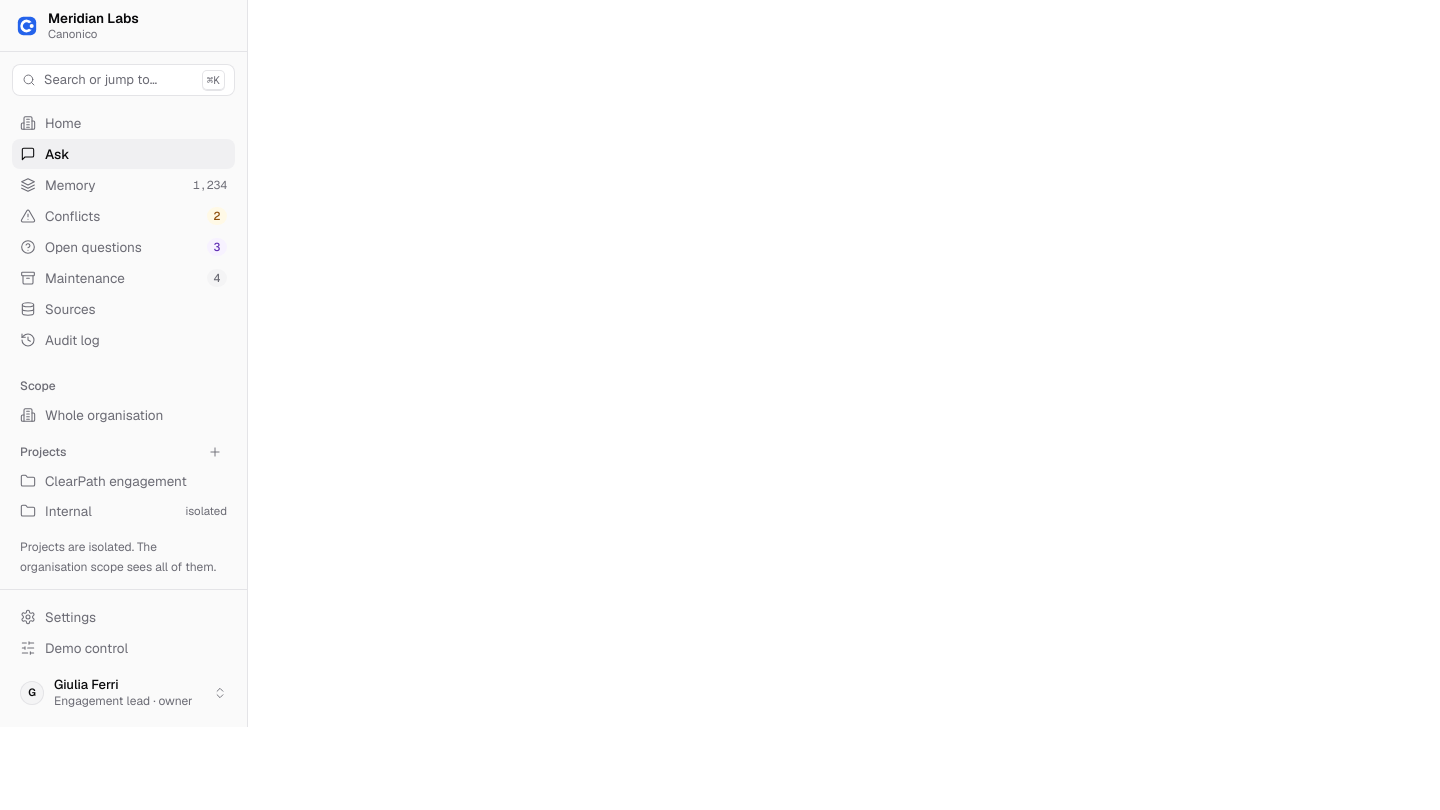
it: Sidebar › new project › creates the project, switches to it, opens its overview and confirms
This screenshot has width=1440, height=810.
Click the button named "New project": click(215, 452) [203, 440, 227, 464]
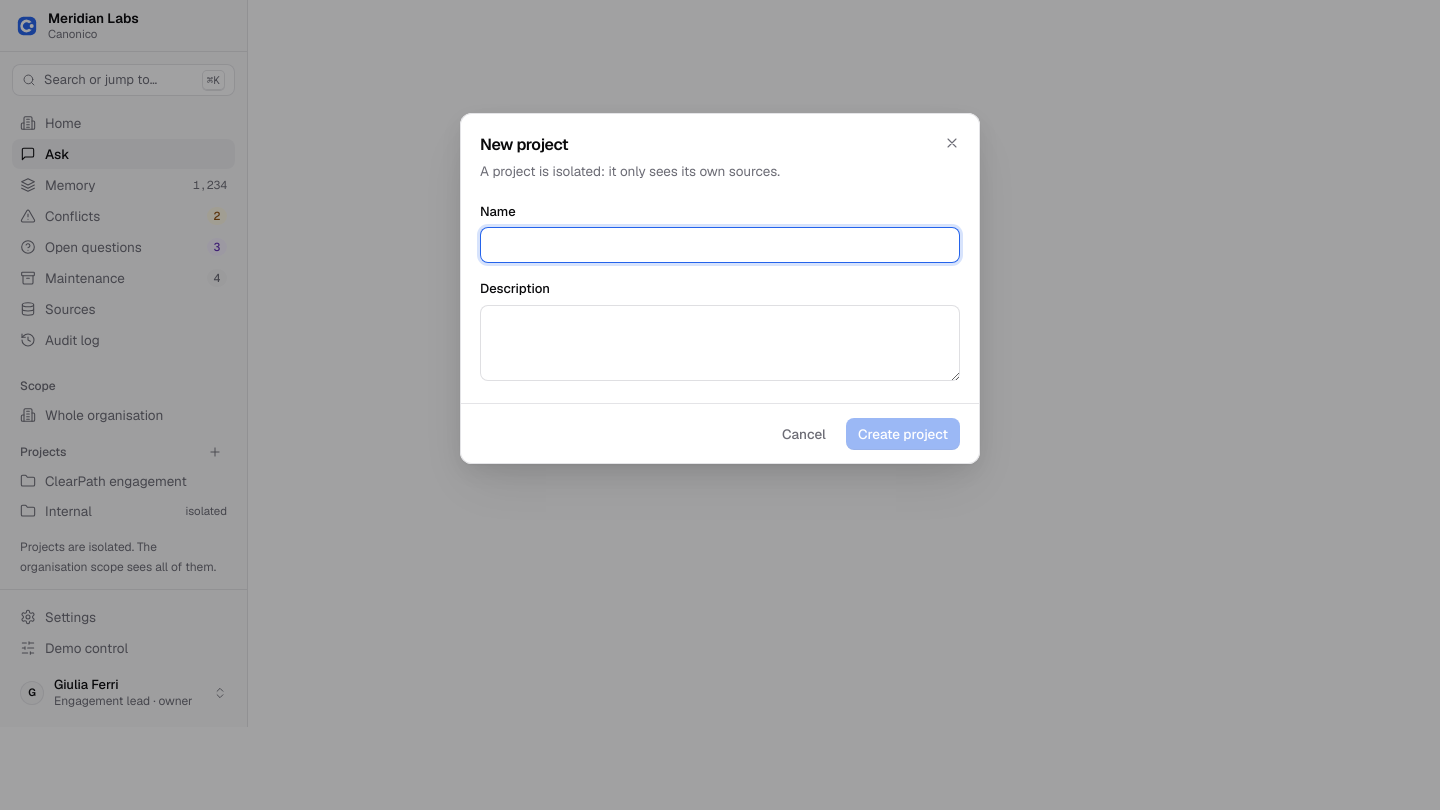
In the field labelled "Name": (720, 245) [480, 227, 960, 263], type "  Northwind audit "
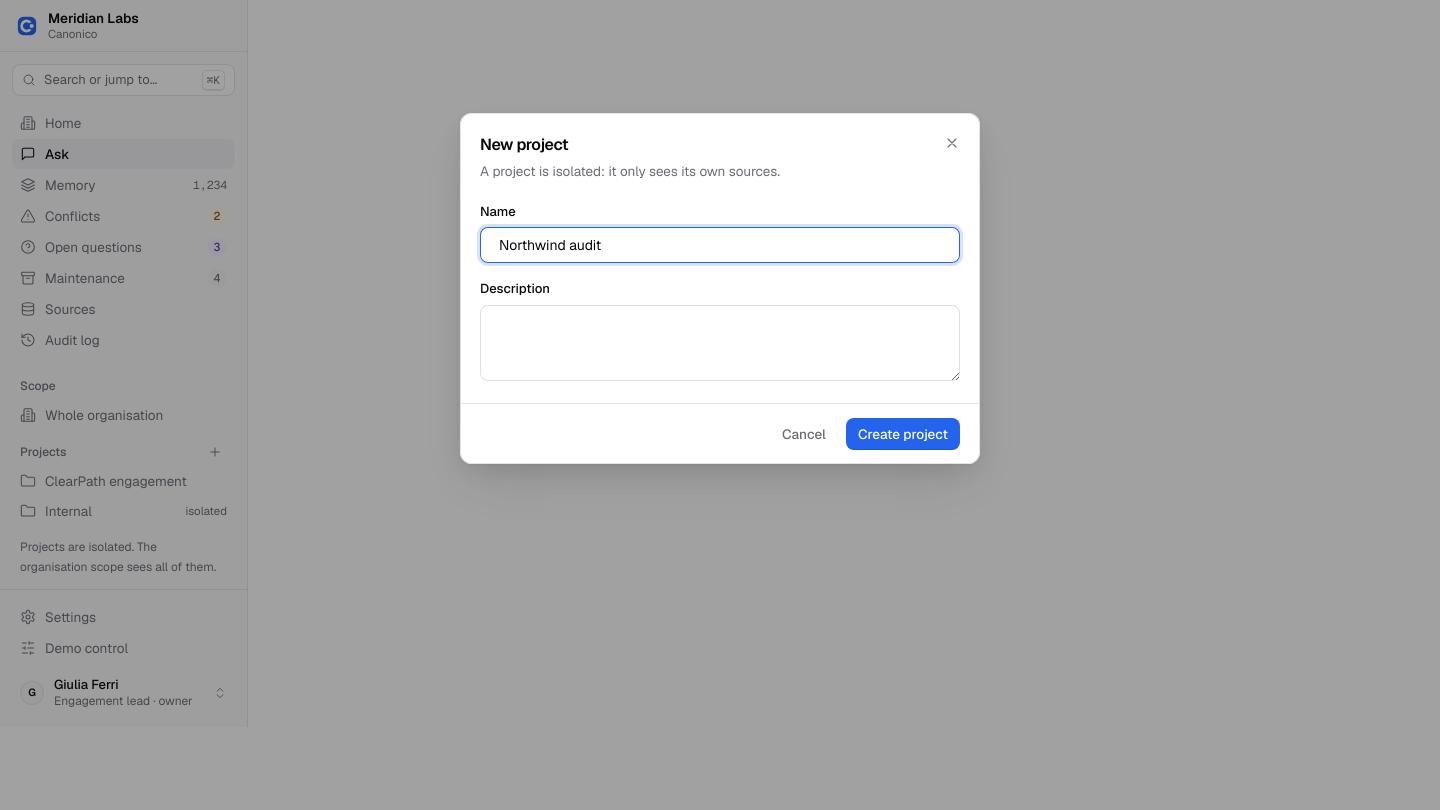
In the text box labelled "Description": (720, 343) [480, 305, 960, 381], type " Year-end audit "
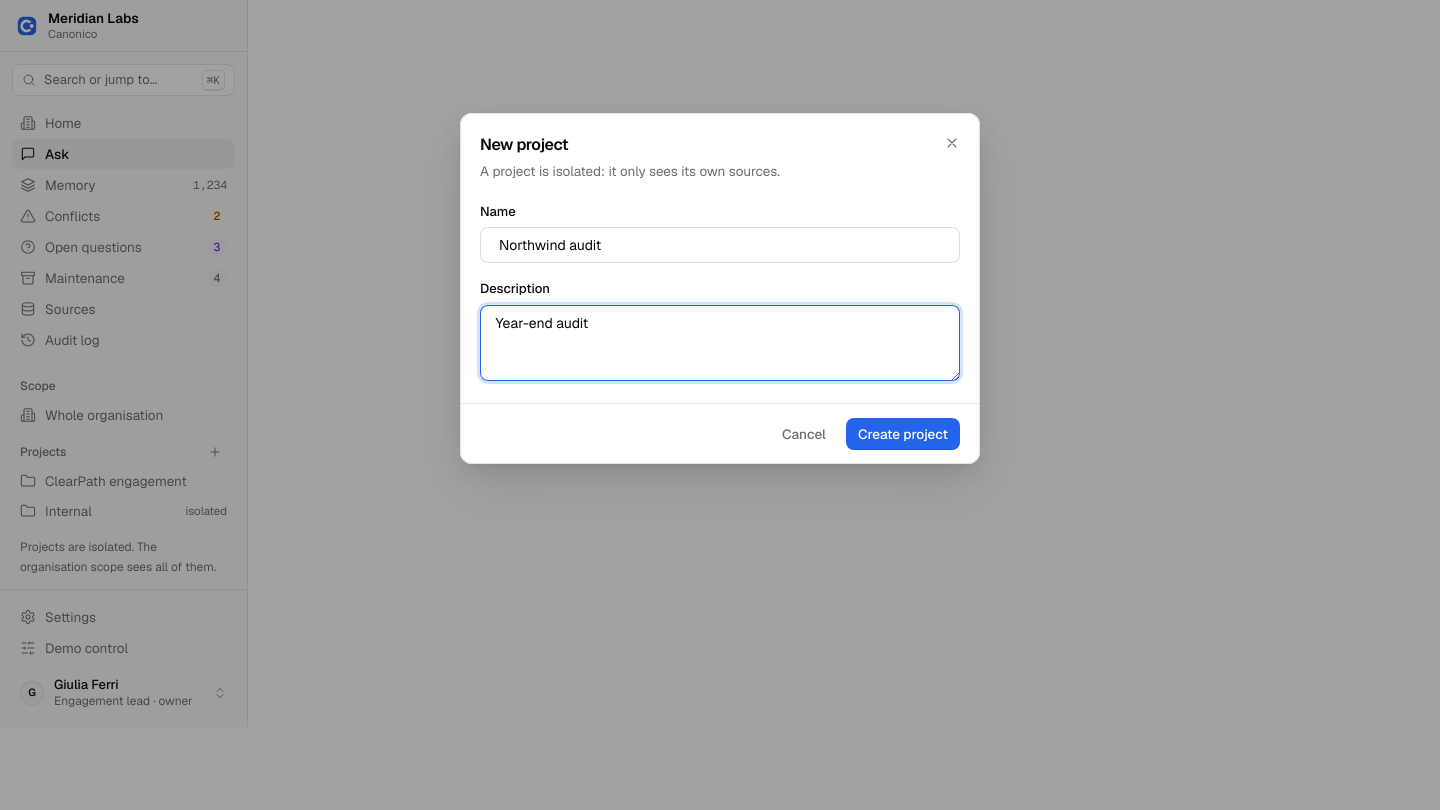
Click the button "Create project": click(903, 434) [846, 418, 960, 450]
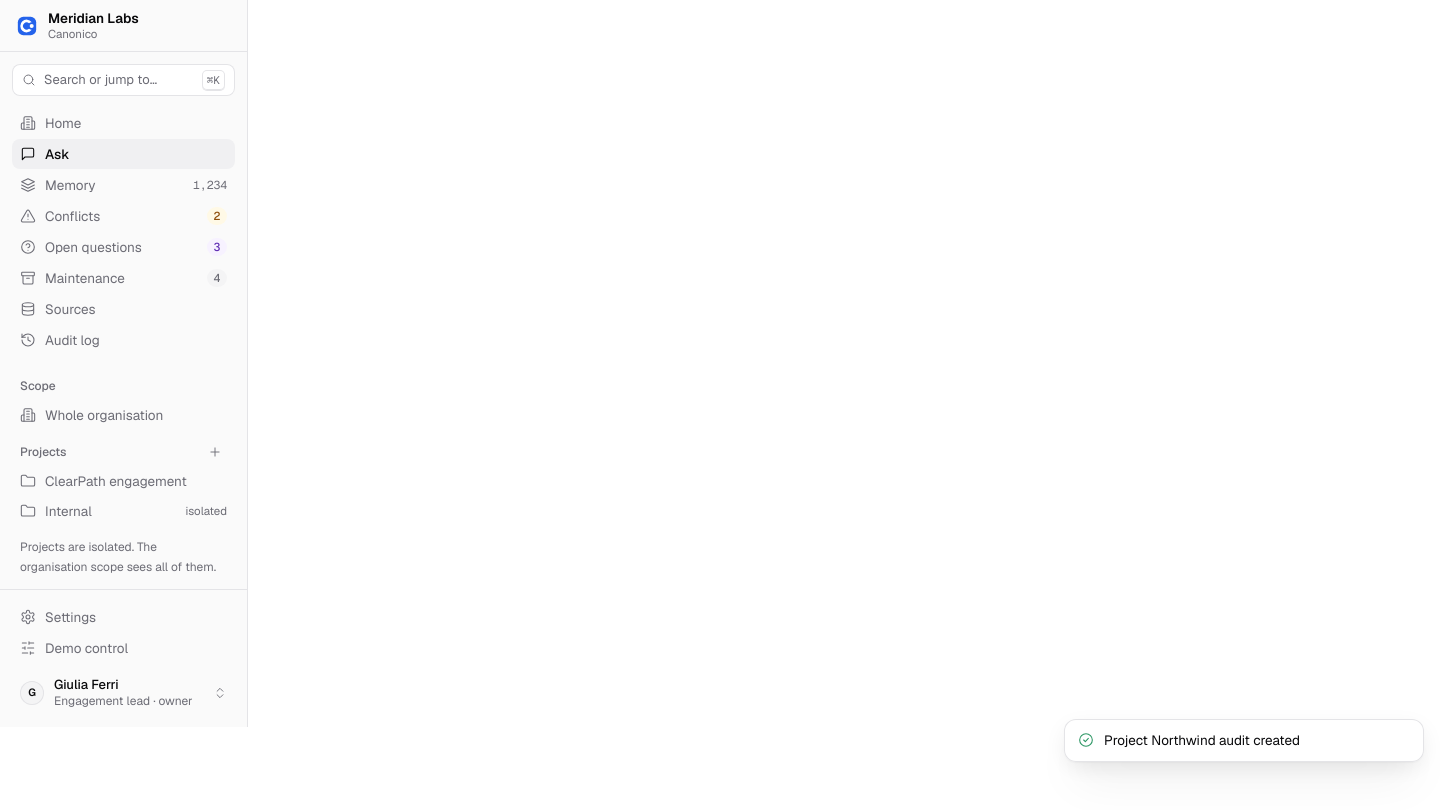
Check: the text "Project Northwind audit created" is shown, box [1104, 731, 1300, 749]
Check: the dialog is gone
